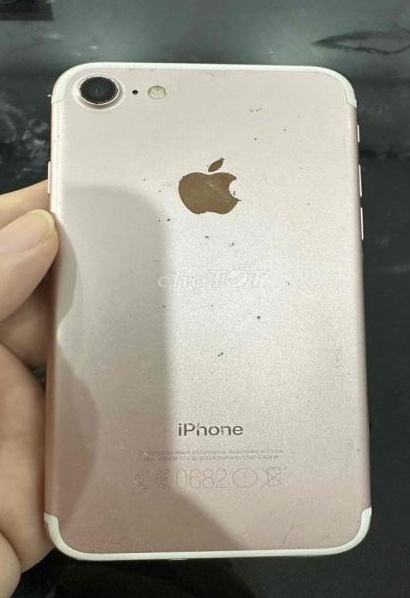scratch: (107, 418, 166, 496), (175, 154, 242, 218), (68, 65, 176, 103), (268, 513, 301, 551), (312, 511, 340, 543), (141, 173, 169, 195), (349, 500, 362, 547), (203, 66, 233, 80), (45, 128, 67, 143), (243, 101, 265, 115), (303, 193, 316, 213), (276, 279, 300, 289), (355, 435, 365, 459), (202, 300, 222, 311), (153, 213, 177, 222), (205, 349, 230, 357), (276, 125, 291, 135), (247, 312, 268, 319), (226, 239, 239, 249), (200, 231, 211, 242), (159, 303, 171, 309), (250, 135, 261, 141)
